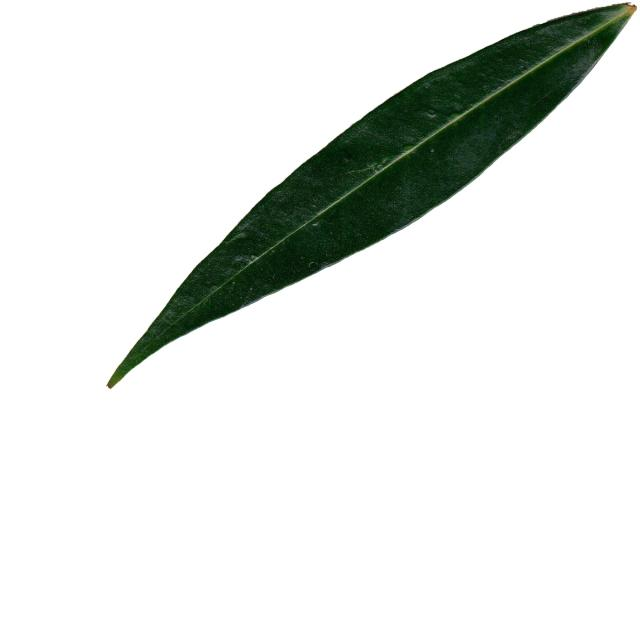Medicinal-Rose Apple: (109, 0, 640, 384)
